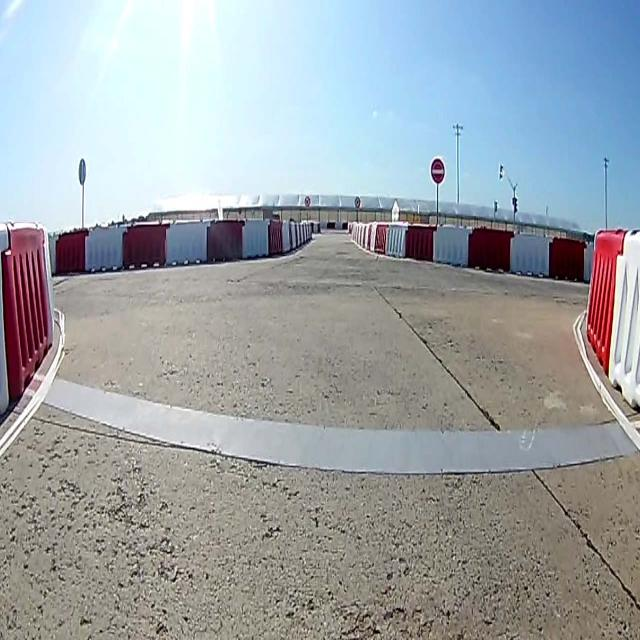girisyok: (431, 155, 445, 186)
